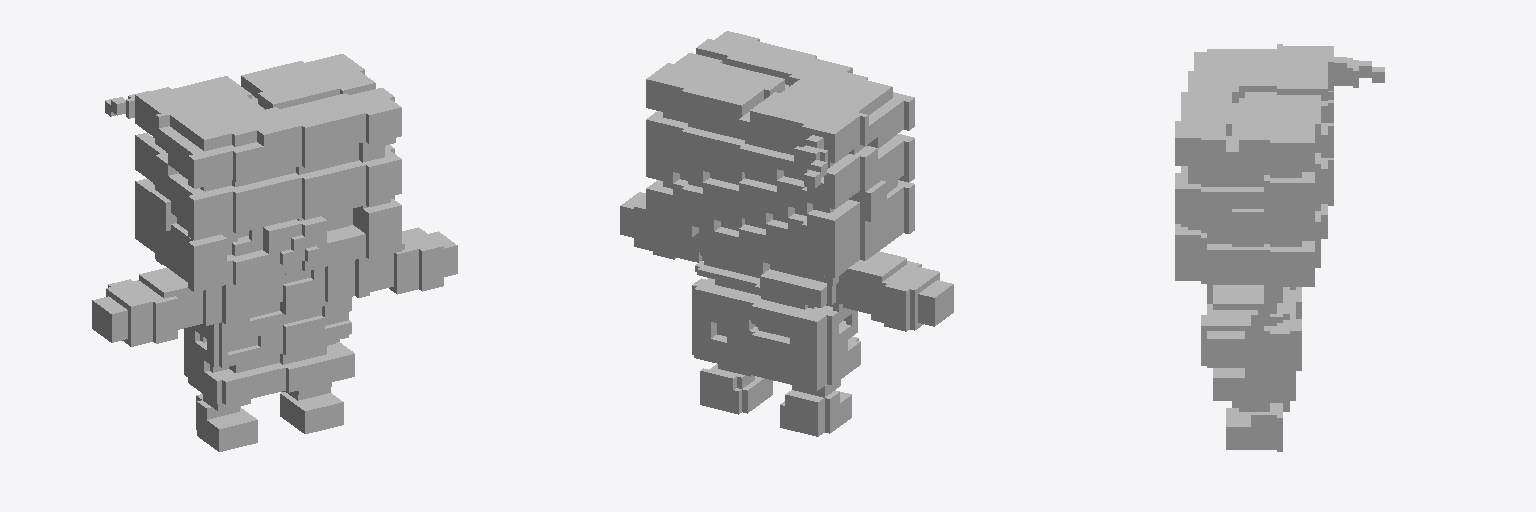
File: Mummy.obj
3 views of the same model, side by side, from view 1: azimuth 30°, elevation 25°; view 2: azimuth 150°, elevation 25°; view 3: azimuth 270°, elevation 25° (orthographic).
Visible parts, largest first — view 1: object 1; view 2: object 1; view 3: object 1.
Boxes of the visible parts, x1=… form: object 1: x1=92, y1=54, x2=457, y2=451; object 1: x1=620, y1=31, x2=953, y2=436; object 1: x1=1175, y1=44, x2=1384, y2=451.
Size of the model in its own units: 6 by 5.7 by 3.3.